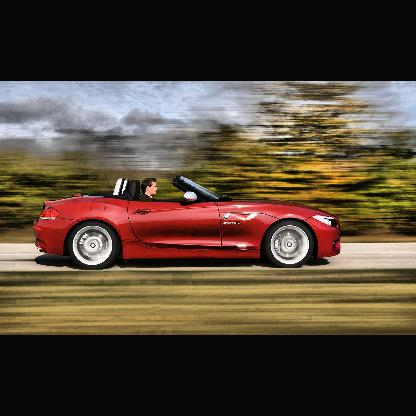BMW Z4 Convertible 2012: (35, 175, 342, 270)
